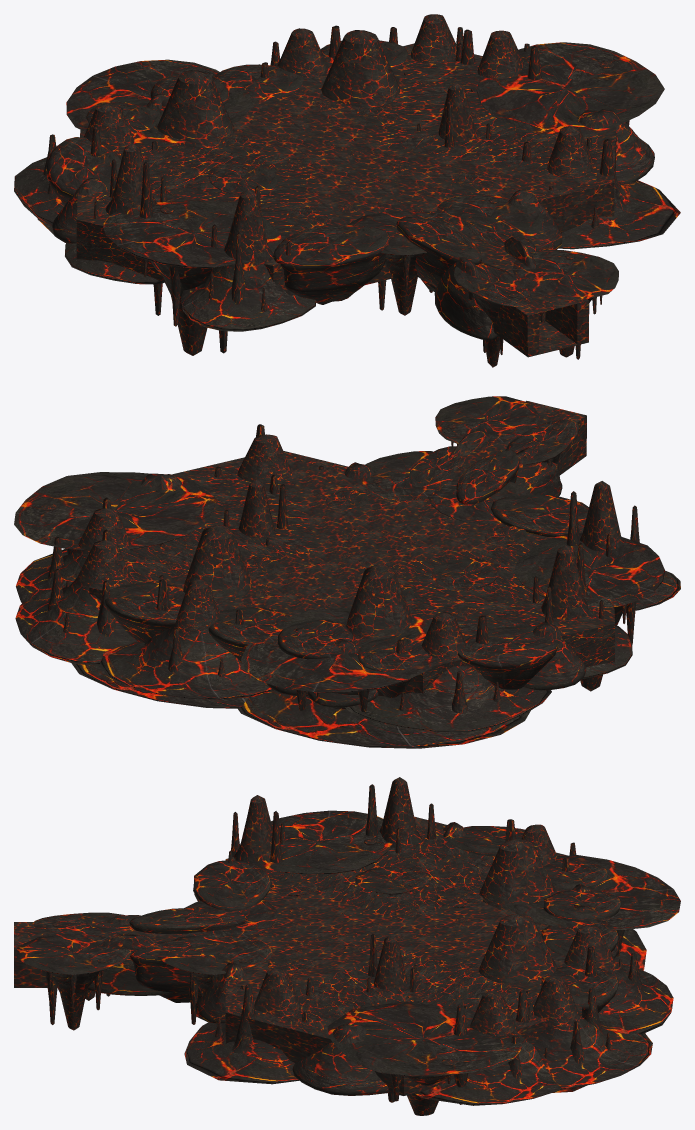
Rendered from DUNGEON 3 BOSS ROOM FBX.fbx.
3 views of the same model, one above another, from view 1: azimuth 30°, elevation 25°; view 2: azimuth 150°, elevation 25°; view 3: azimuth 270°, elevation 25° (orthographic). The views are drawn at different scales.
Visible parts, largest first — view 1: polySurface311; view 2: polySurface311; view 3: polySurface311.
Boxes of the visible parts, x1=… form: polySurface311: x1=14, y1=14, x2=680, y2=367; polySurface311: x1=14, y1=396, x2=680, y2=748; polySurface311: x1=14, y1=777, x2=680, y2=1115.
Bounding box in the file's own units: 118 × 35.53 × 125.
Materials: 1 (1 with a texture image).
